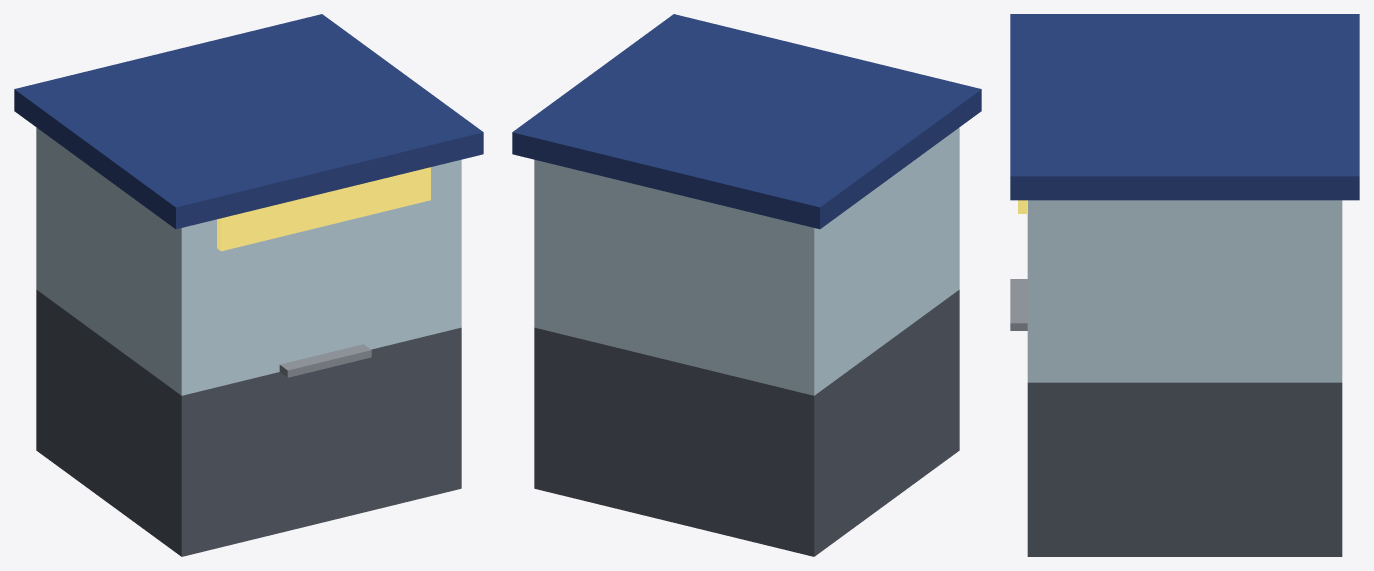
The model's file is ticket-booth.glb.
3 views of the same model, side by side, from view 1: azimuth 30°, elevation 25°; view 2: azimuth 150°, elevation 25°; view 3: azimuth 270°, elevation 25° (orthographic). The views are drawn at different scales.
Parts seen in each view (by area): view 1: part-booth-wall, part-clear-booth, part-booth-roof, part-ticket-sign, part-steel; view 2: part-clear-booth, part-booth-wall, part-booth-roof; view 3: part-booth-roof, part-clear-booth, part-booth-wall, part-steel.
Boxes of the visible parts, x1,y1,x2,y2 form: part-booth-wall: [36, 289, 461, 556]; part-clear-booth: [36, 127, 461, 395]; part-booth-roof: [14, 14, 483, 229]; part-ticket-sign: [217, 167, 430, 251]; part-steel: [279, 344, 371, 377]; part-clear-booth: [534, 127, 959, 395]; part-booth-wall: [534, 289, 959, 556]; part-booth-roof: [512, 14, 981, 229]; part-booth-roof: [1010, 14, 1359, 200]; part-clear-booth: [1027, 200, 1342, 382]; part-booth-wall: [1027, 382, 1342, 556]; part-steel: [1010, 279, 1027, 330].
Size of the model in its own units: 44 by 49 by 40.
